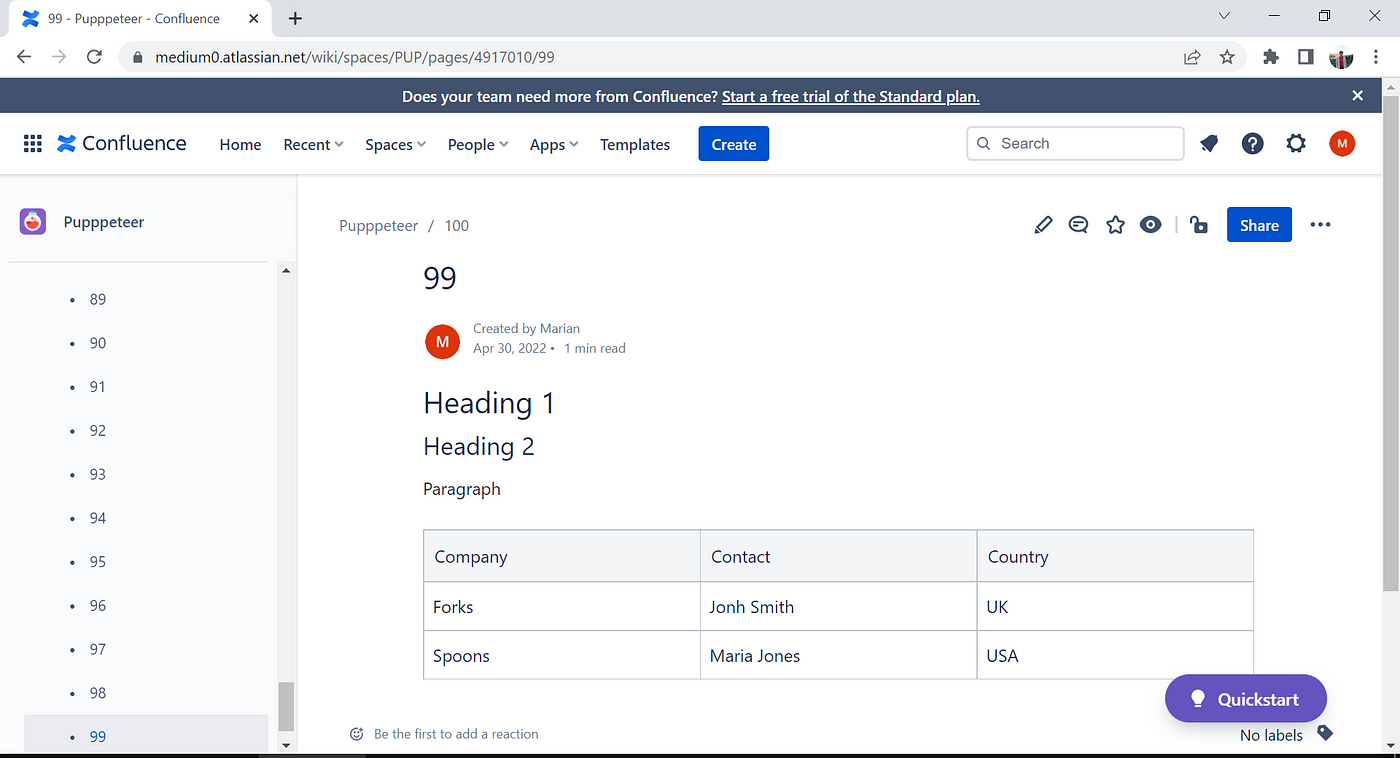button_create: (694, 121, 775, 165)
search_box: (966, 121, 1188, 163)
